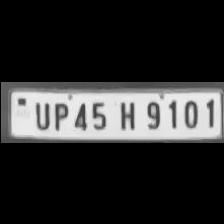0: (178, 96, 200, 128)
1: (162, 97, 180, 129), (201, 96, 219, 128)
4: (69, 98, 87, 130)
5: (86, 98, 108, 130)
9: (141, 97, 163, 129)
H: (113, 96, 139, 130)
P: (49, 99, 69, 129)
U: (30, 99, 50, 129)
